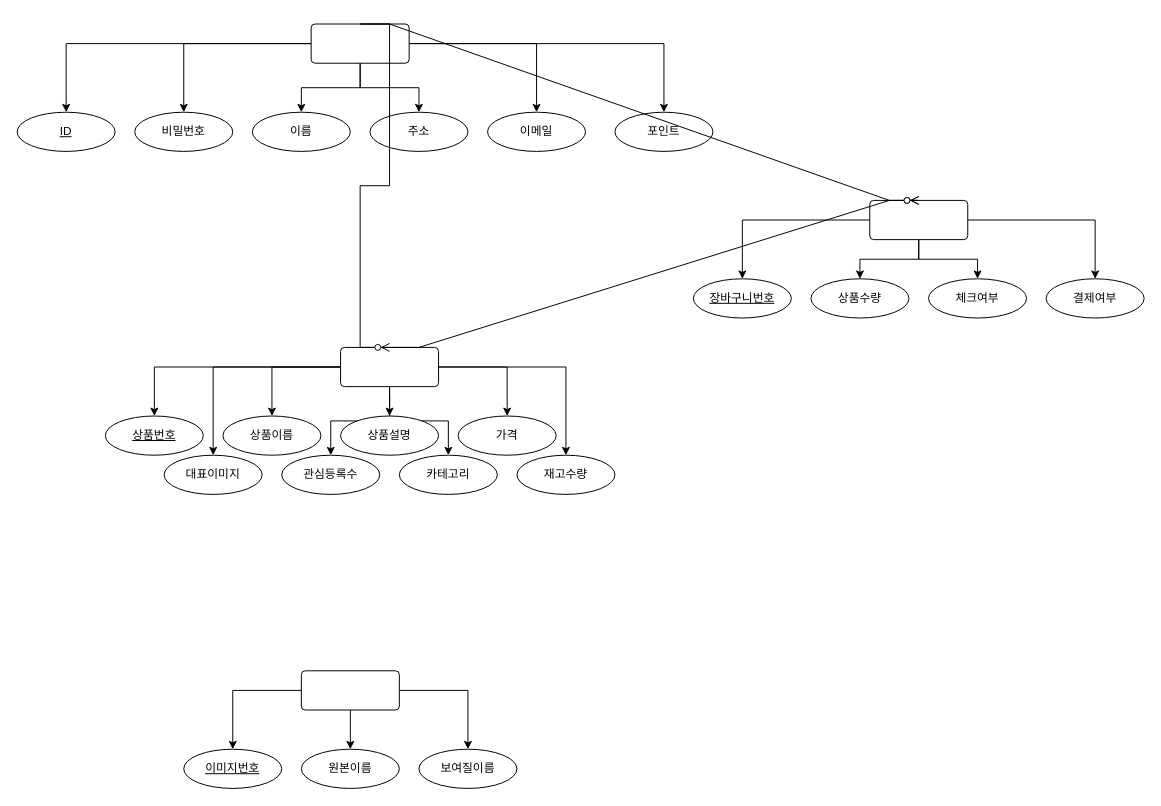
The diagram is 1161 pixels wide and 806 high, and some of its shapes have lost their labels. The shapes that lost their labels are listed below. From the top down, each one's centre as x and y in pixels, then its label:
At [359,43]: "회원".
At [918,219]: "장바구니".
At [389,366]: "상품".
At [349,690]: "상세이미지".
